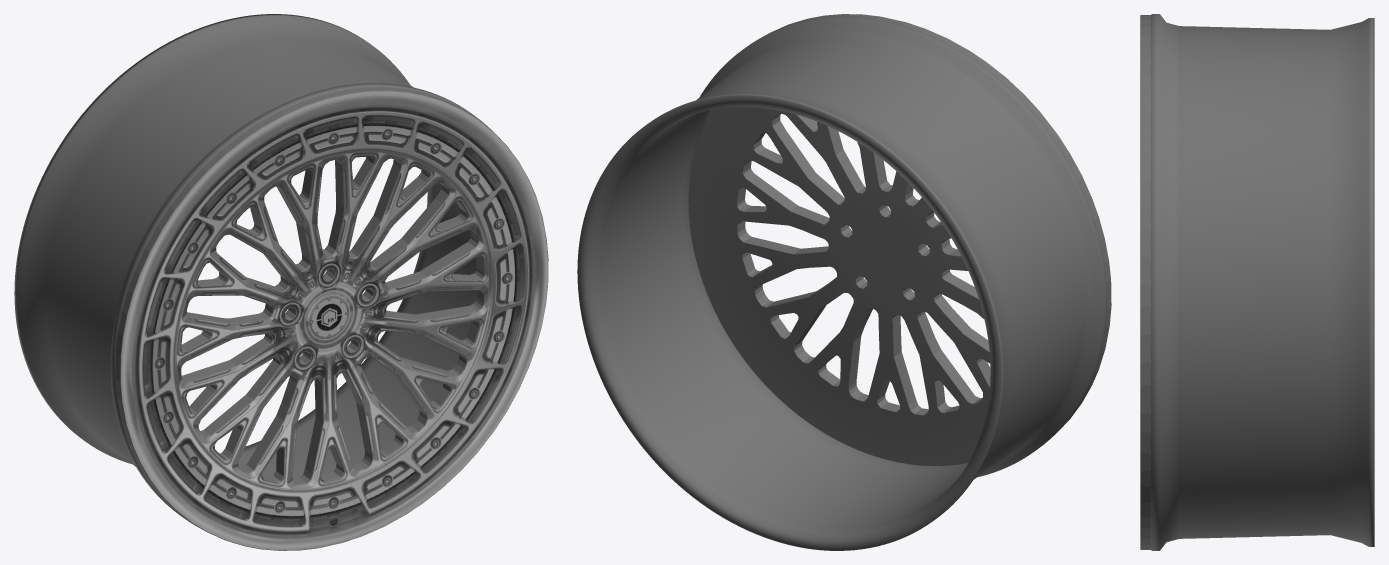
The model's file is e6-multipiece-ar03.glb.
3 views of the same model, side by side, from view 1: azimuth 30°, elevation 25°; view 2: azimuth 150°, elevation 25°; view 3: azimuth 270°, elevation 25° (orthographic). The views are drawn at different scales.
Parts seen in each view (by area): view 1: Photo_traced_face_0, Approximate_rear_barrel; view 2: Approximate_rear_barrel, Photo_traced_face_0; view 3: Approximate_rear_barrel, Photo_traced_face_0.
Boxes of the visible parts, x1,y1,x2,y2 form: Photo_traced_face_0: (115, 87, 548, 550); Approximate_rear_barrel: (14, 14, 492, 529); Approximate_rear_barrel: (577, 17, 1107, 550); Photo_traced_face_0: (688, 14, 1111, 465); Approximate_rear_barrel: (1150, 14, 1374, 550); Photo_traced_face_0: (1140, 15, 1150, 549).
Size of the model in its own units: 2.06 by 2.06 by 0.9.
2 materials, 1 textured.
